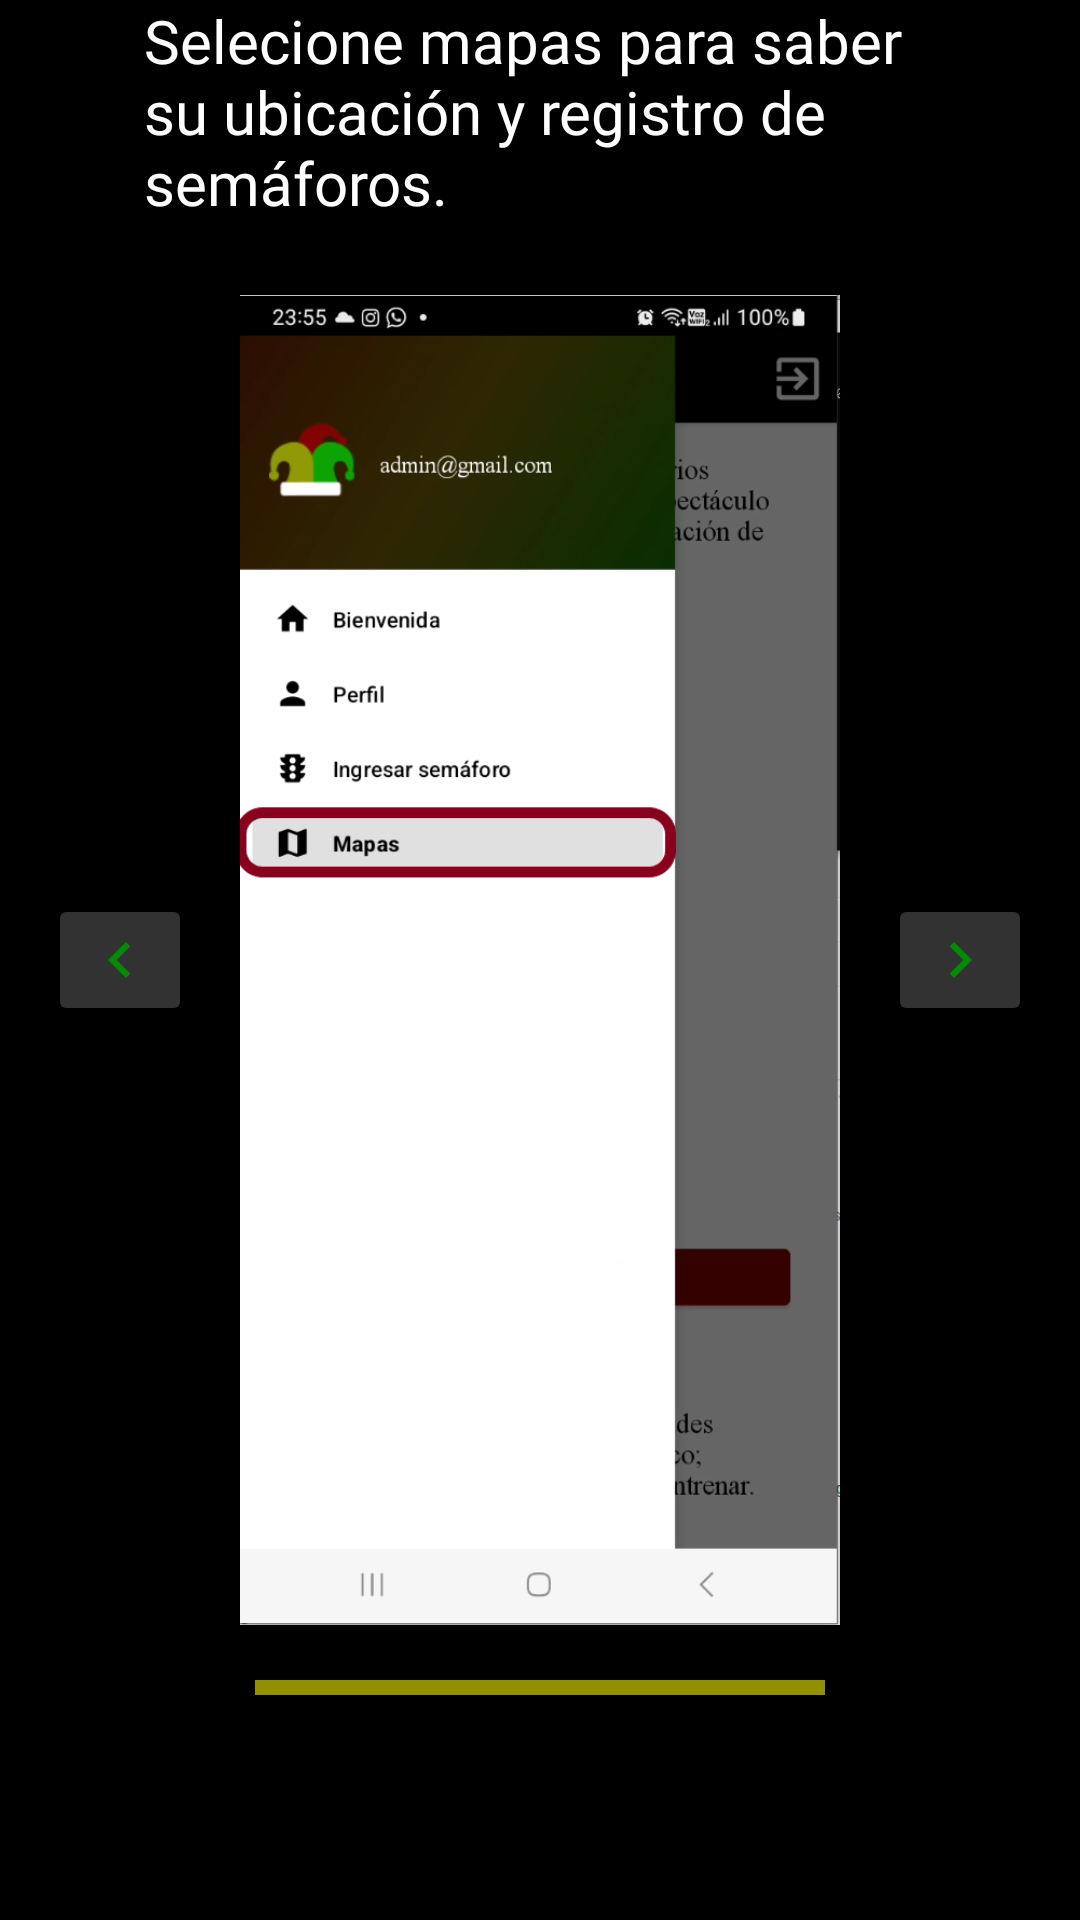

Where to tap for icons on this 1080px x 1920px app screen, as (x,y):
Anterior: (120,960)
Siguiente: (960,960)
